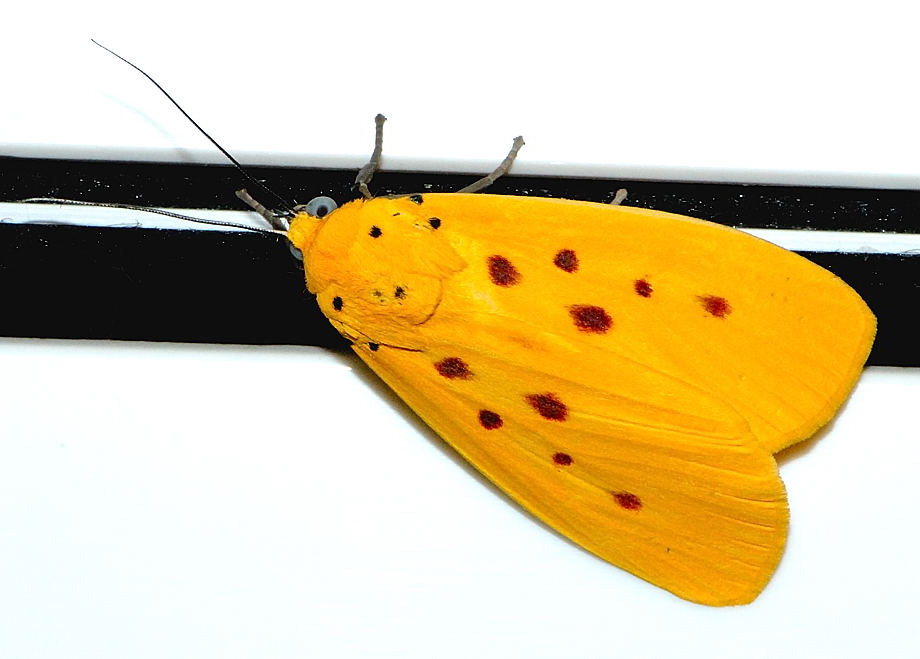Agape chloropyga: (26, 36, 894, 615)
moth: (24, 34, 892, 613)
